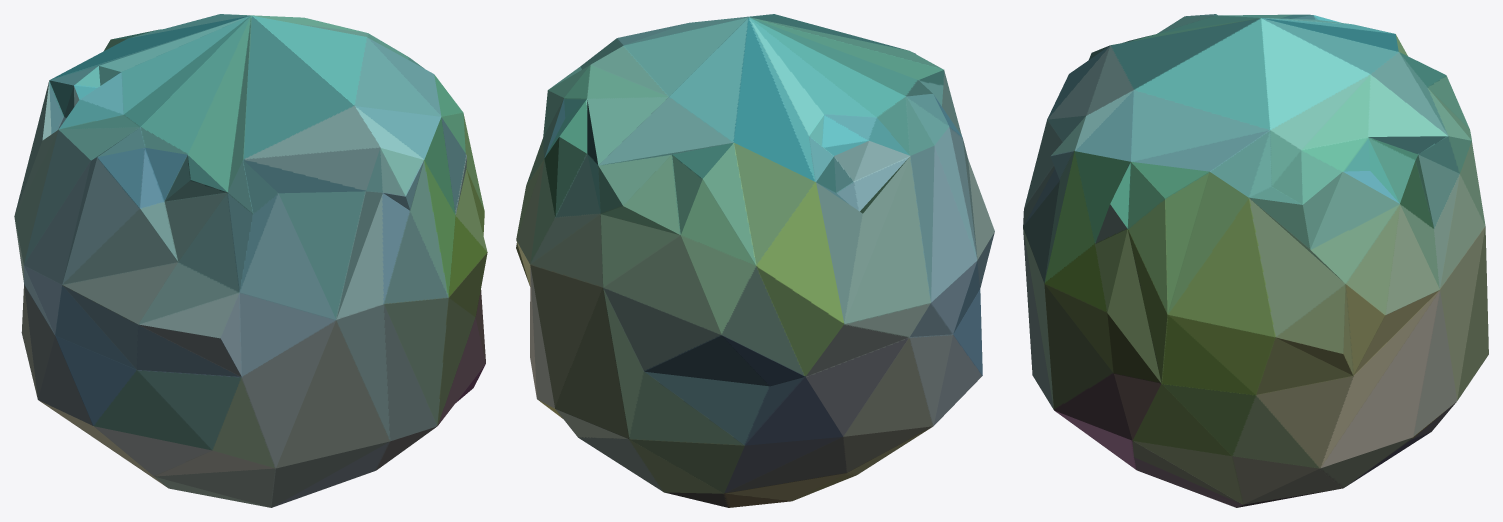
The model's file is fog.fbx.
The picture shows the model from 3 angles, left to right: view 1: azimuth 30°, elevation 25°; view 2: azimuth 150°, elevation 25°; view 3: azimuth 270°, elevation 25°; orthographic projection.
Visible parts, largest first — view 1: Mesh_0; view 2: Mesh_0; view 3: Mesh_0.
Part boxes in pixels (bbox=[...]): Mesh_0: bbox=[14, 14, 487, 507]; Mesh_0: bbox=[516, 14, 994, 507]; Mesh_0: bbox=[1023, 14, 1488, 507].
Bounding box in the file's own units: 107 × 118 × 106.
1 material, 1 textured.
